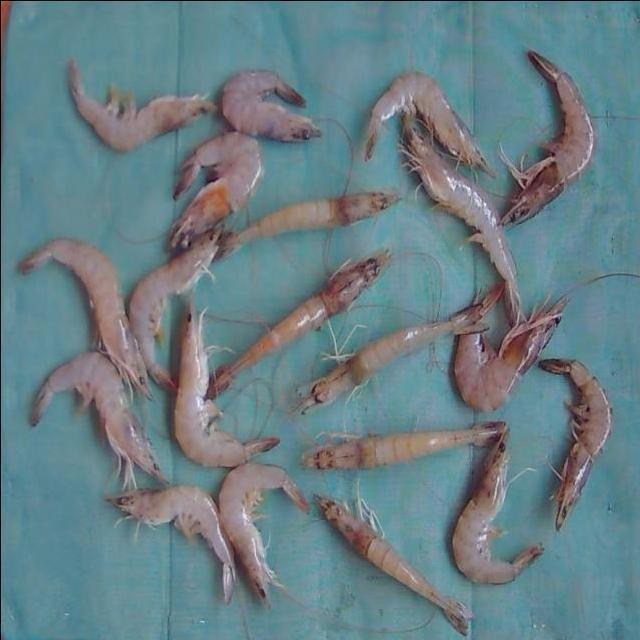shrimp: (291, 283, 503, 413), (206, 250, 392, 398), (401, 111, 525, 325), (315, 497, 473, 635), (18, 238, 148, 397), (30, 351, 166, 488), (173, 304, 278, 467), (502, 49, 596, 223), (106, 486, 235, 603), (128, 227, 218, 392), (452, 427, 544, 585), (365, 70, 495, 176), (68, 58, 216, 149), (218, 463, 310, 608), (454, 297, 568, 411), (539, 358, 612, 530), (214, 191, 398, 257), (168, 130, 263, 249), (302, 422, 505, 469), (221, 69, 320, 141)
